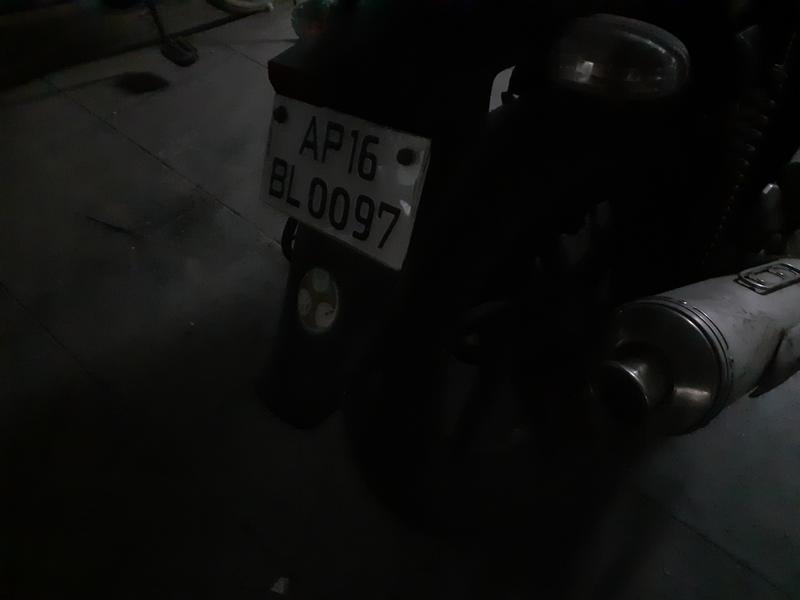numberplate: (253, 95, 430, 270)
